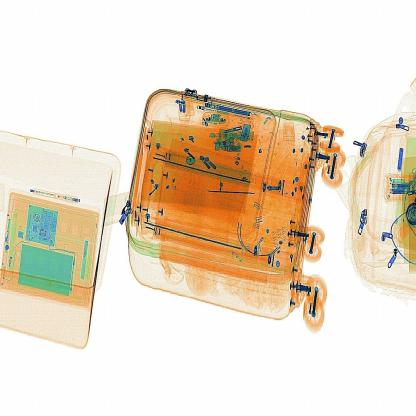wrench: (202, 184, 264, 206)
